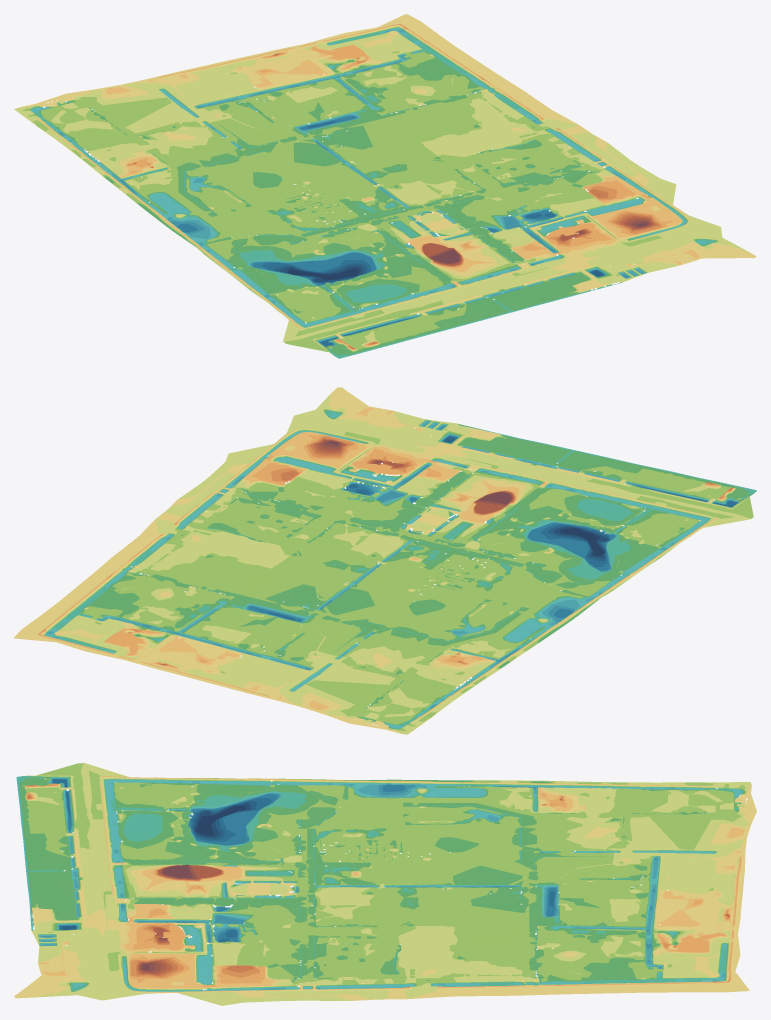
The model's file is salaya-terrain.glb.
3 renders of one model, top to bottom at view 1: azimuth 30°, elevation 25°; view 2: azimuth 150°, elevation 25°; view 3: azimuth 270°, elevation 25°, orthographic. The views are drawn at different scales.
Visible parts, largest first — view 1: terrain; view 2: terrain; view 3: terrain.
Boxes of the visible parts, x1,y1,x2,y2 form: terrain: (14, 14, 756, 358); terrain: (14, 387, 756, 734); terrain: (14, 763, 756, 1005).
Size of the model in its own units: 1355 by 11 by 1752.
